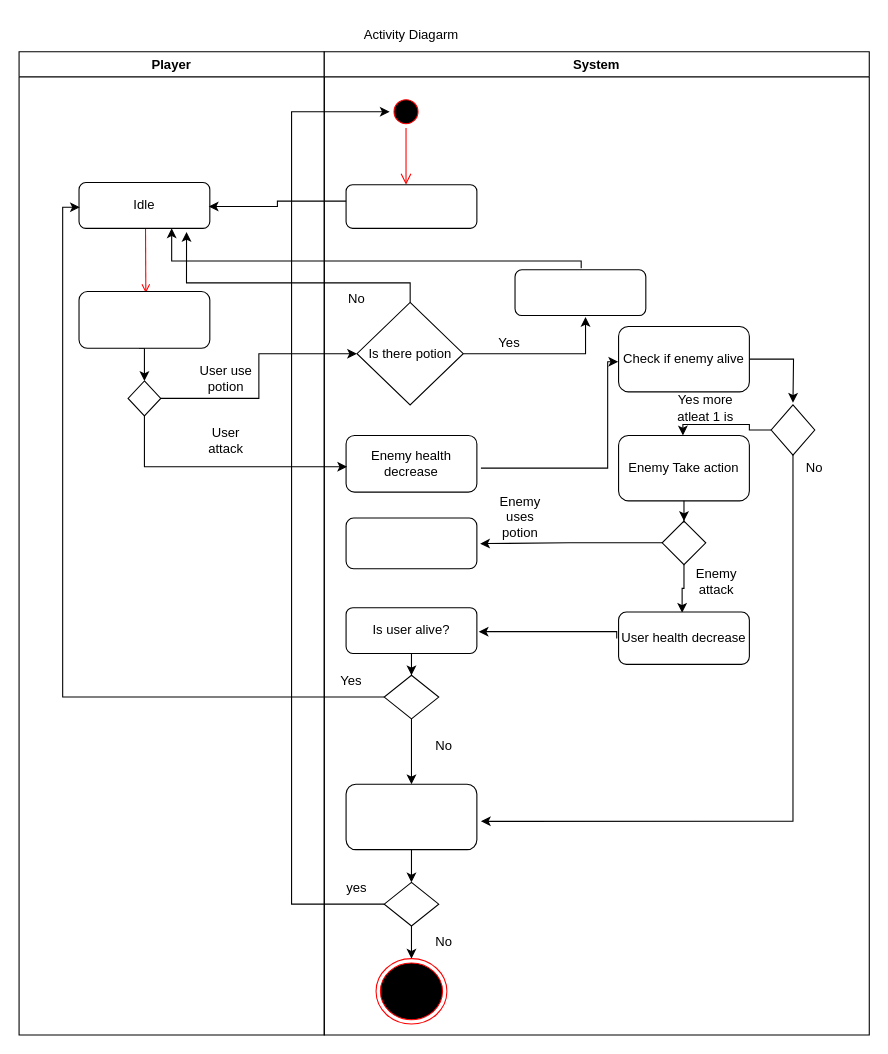
This 888x1054 diagram has some shape labels left out. The centre of each missing label's shape, as x and y in pixels:
"enemy health recover" goes at point (411, 543).
"Game over!, Restart?" goes at point (411, 816).
"Load game assets" goes at point (411, 206).
"User recover health" goes at point (580, 292).
"User take action" goes at point (144, 319).
